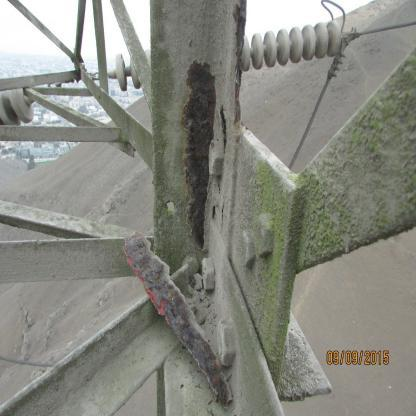Grado3: (190, 43, 215, 265)
